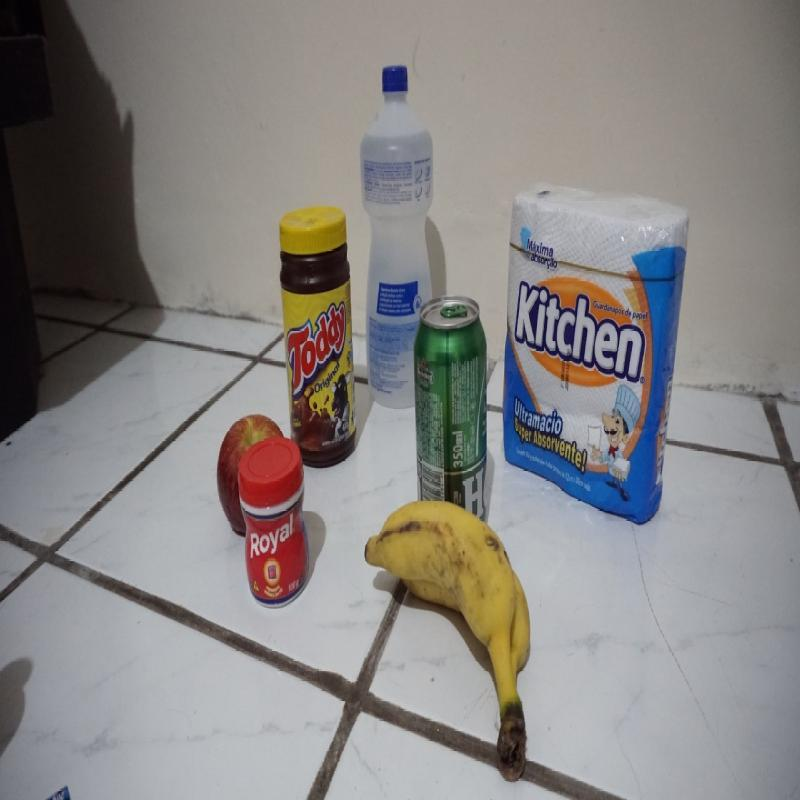Alcohol Bottle: (360, 66, 435, 407)
Apple: (218, 414, 288, 540)
Banana: (366, 500, 532, 782)
Beer can: (415, 295, 488, 531)
Chocolate Powder: (280, 206, 356, 470)
Napkin: (502, 182, 690, 522)
Yeast: (240, 438, 309, 607)
